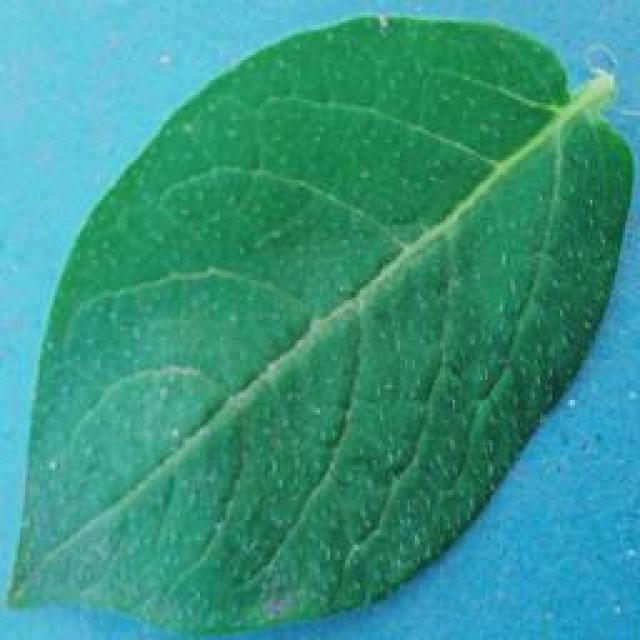Potato_Healthy: (9, 15, 625, 631)
